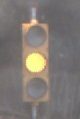Yellow: (13, 9, 56, 114)
